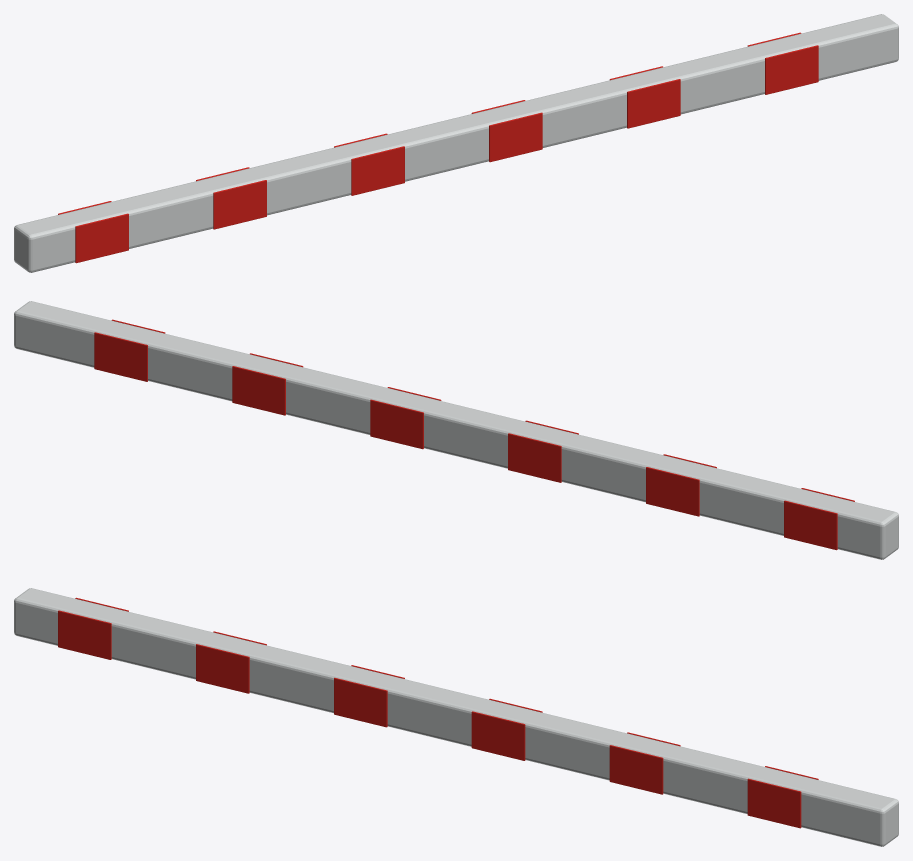
File: parking_boom.glb
3 views of the same model, one above another, from view 1: azimuth 30°, elevation 25°; view 2: azimuth 150°, elevation 25°; view 3: azimuth 330°, elevation 25° (orthographic).
Visible parts, largest first — view 1: BOOM_arm, BOOM_red_band_2, BOOM_red_band_1, BOOM_red_band_3, BOOM_red_band_5, BOOM_red_band_0, BOOM_red_band_4; view 2: BOOM_arm, BOOM_rear_band_2, BOOM_rear_band_1, BOOM_rear_band_3, BOOM_rear_band_5, BOOM_rear_band_0, BOOM_rear_band_4; view 3: BOOM_arm, BOOM_red_band_4, BOOM_red_band_3, BOOM_red_band_5, BOOM_red_band_1, BOOM_red_band_2, BOOM_red_band_0.
Part boxes in pixels (x1,y1,x2,y2): BOOM_arm: (14, 14, 898, 272); BOOM_red_band_2: (351, 146, 404, 195); BOOM_red_band_1: (213, 180, 266, 229); BOOM_red_band_3: (489, 112, 542, 162); BOOM_red_band_5: (765, 45, 818, 94); BOOM_red_band_0: (75, 213, 128, 263); BOOM_red_band_4: (627, 79, 680, 128); BOOM_arm: (14, 301, 898, 559); BOOM_rear_band_2: (508, 433, 561, 482); BOOM_rear_band_1: (646, 467, 699, 516); BOOM_rear_band_3: (370, 399, 423, 449); BOOM_rear_band_5: (94, 332, 147, 381); BOOM_rear_band_0: (784, 500, 837, 550); BOOM_rear_band_4: (232, 366, 285, 415); BOOM_arm: (14, 588, 898, 846); BOOM_red_band_4: (609, 745, 663, 794); BOOM_red_band_3: (471, 711, 525, 760); BOOM_red_band_5: (747, 778, 801, 828); BOOM_red_band_1: (196, 644, 249, 693); BOOM_red_band_2: (334, 677, 387, 727); BOOM_red_band_0: (58, 610, 111, 659).
Size of the model in its own units: 3.6 by 0.15 by 0.13.
